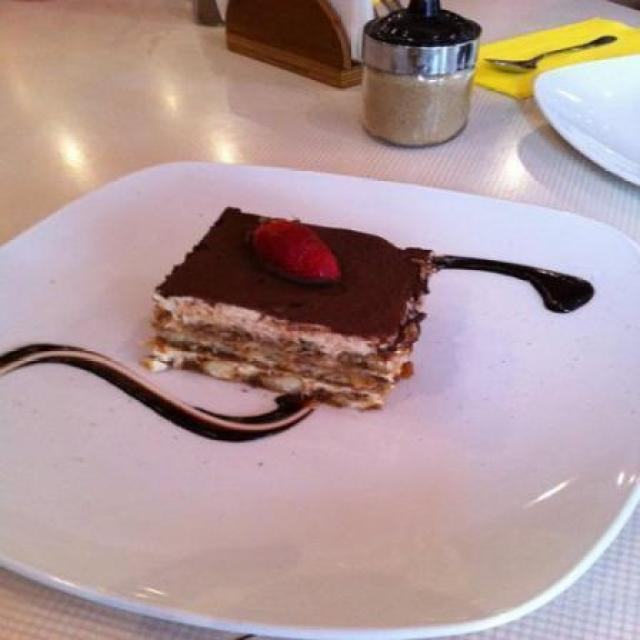Tiramisu: (148, 204, 446, 416)
